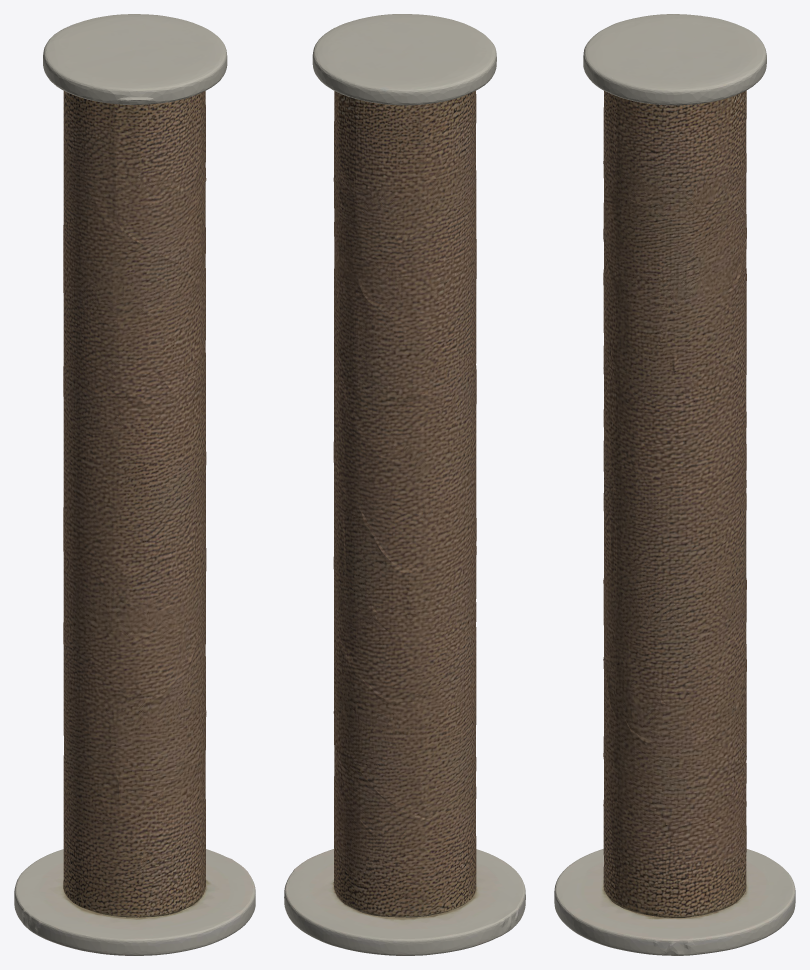
File: ktochka_5.glb
The picture shows the model from 3 angles, left to right: view 1: azimuth 30°, elevation 25°; view 2: azimuth 150°, elevation 25°; view 3: azimuth 270°, elevation 25°; orthographic projection.
Visible parts, largest first — view 1: tripo_node_5fe76c54-1c3c-4914-b780-3b2014eecb58; view 2: tripo_node_5fe76c54-1c3c-4914-b780-3b2014eecb58; view 3: tripo_node_5fe76c54-1c3c-4914-b780-3b2014eecb58.
Boxes of the visible parts, bbox=[...] form: tripo_node_5fe76c54-1c3c-4914-b780-3b2014eecb58: bbox=[14, 14, 255, 955]; tripo_node_5fe76c54-1c3c-4914-b780-3b2014eecb58: bbox=[284, 14, 525, 955]; tripo_node_5fe76c54-1c3c-4914-b780-3b2014eecb58: bbox=[554, 14, 795, 955].
Size of the model in its own units: 0.2601 by 1 by 0.2559.
1 material, 1 textured.
